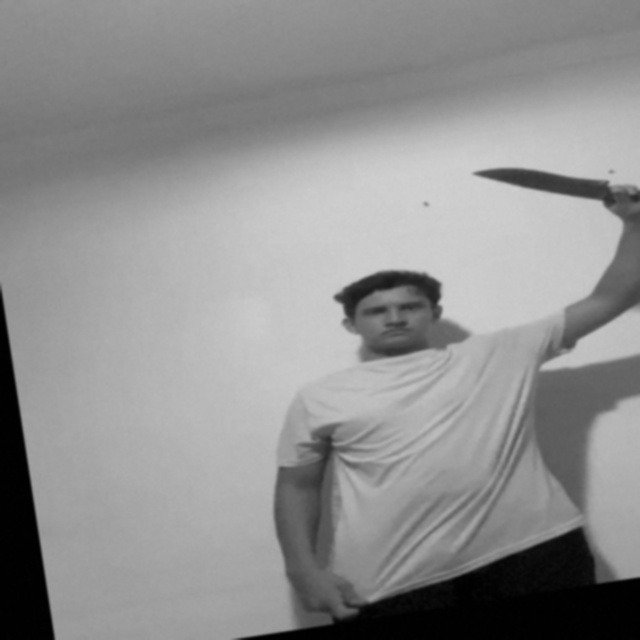Sharp-Object: (472, 150, 606, 210)
